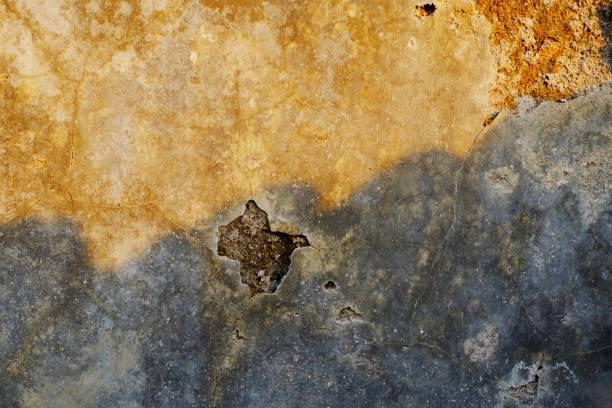Corrosion: (468, 1, 612, 127)
Spalling: (216, 199, 310, 300), (504, 372, 540, 408), (336, 305, 362, 322), (412, 2, 438, 18), (235, 327, 248, 342), (323, 280, 337, 291)
